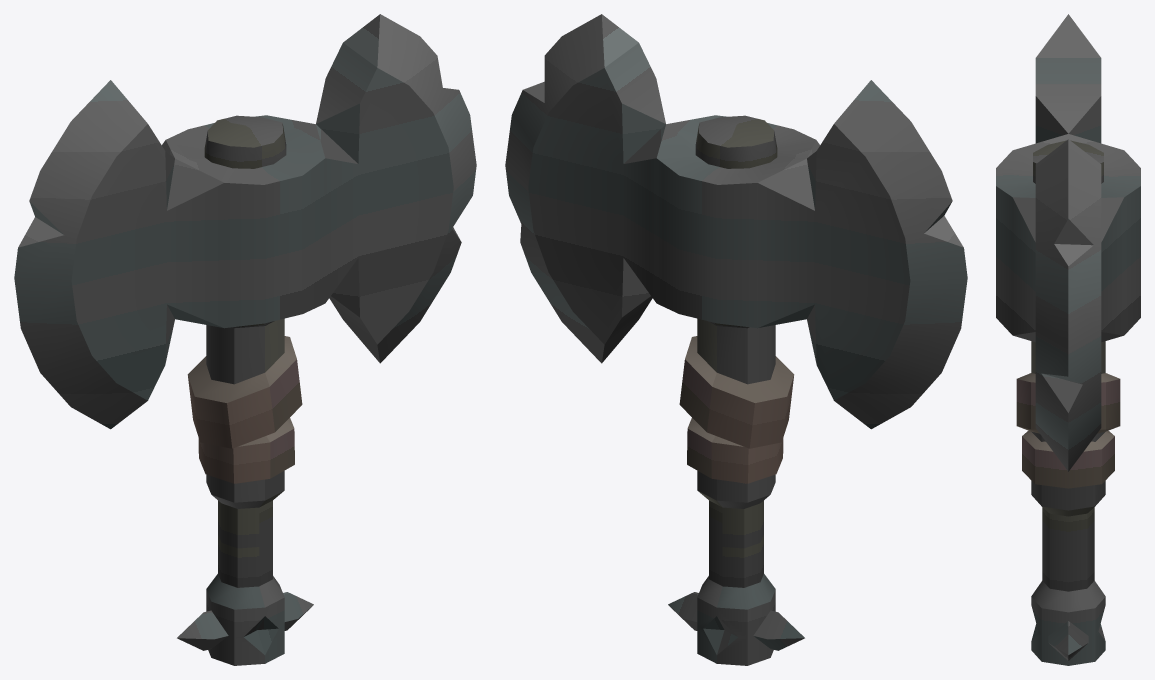
The model's file is hacha.glb.
The picture shows the model from 3 angles, left to right: view 1: azimuth 30°, elevation 25°; view 2: azimuth 150°, elevation 25°; view 3: azimuth 270°, elevation 25°; orthographic projection. The views are drawn at different scales.
Visible parts, largest first — view 1: Skeleton_Axe; view 2: Skeleton_Axe; view 3: Skeleton_Axe.
Part boxes in pixels (x1=…): Skeleton_Axe: x1=14, y1=14, x2=476, y2=665; Skeleton_Axe: x1=505, y1=14, x2=967, y2=665; Skeleton_Axe: x1=996, y1=14, x2=1140, y2=665.
Size of the model in its own units: 0.9886 by 1.25 by 0.2819.
Materials: 1 (1 with a texture image).
